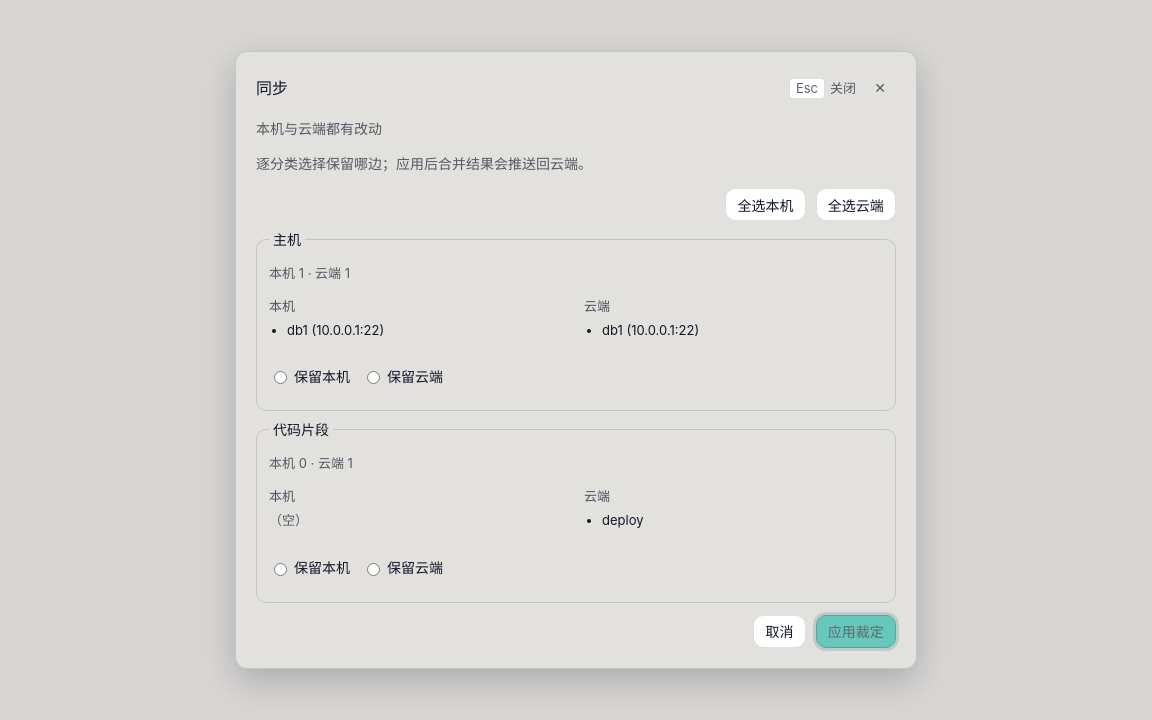
Test: SyncDialog › conflict 态：裁定（hosts=本机、snippets=云端）→ 先 pull 云端侧再 push 双侧有数据并集（全序）
Check: the element with test id "sync-conflict-panel" is shown, box x1=256 y1=118 x2=896 y2=648
Note: 红线：保留云端 → 覆盖预告（本机值）
What coordinates should you click on to do the following:
click the radio button with test id "keep-cloud-hosts"
I would click on:
 (374, 378)
Its box is x1=367 y1=371 x2=380 y2=384.
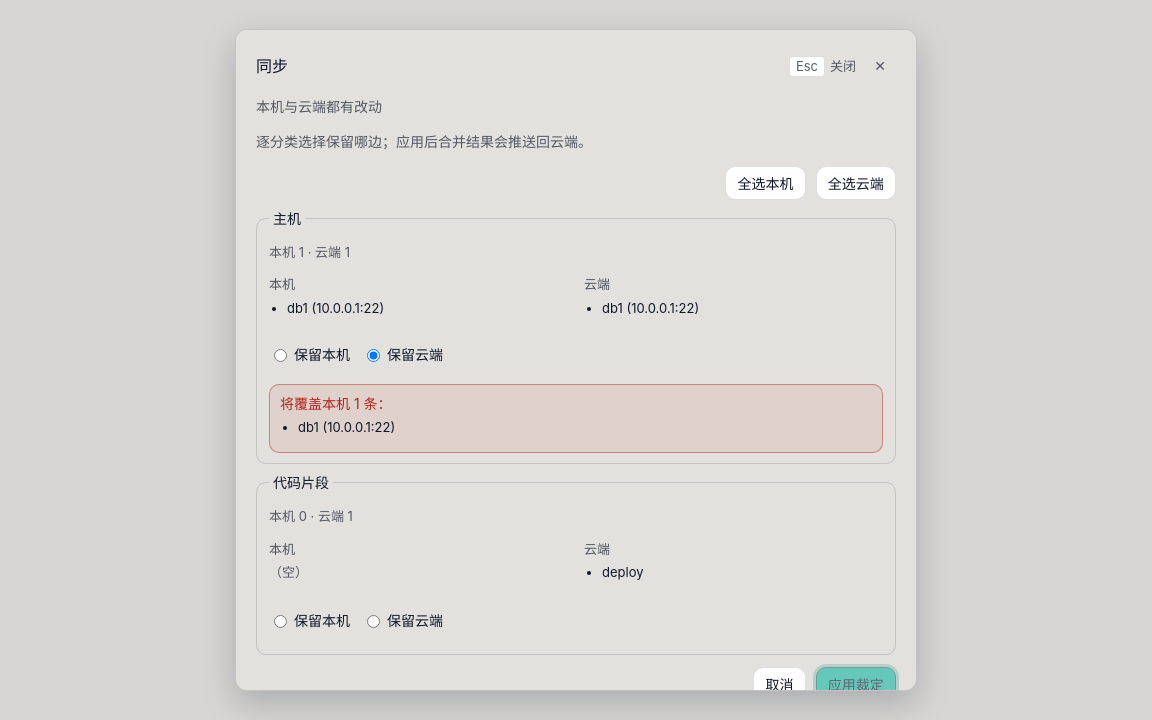
Check: the element with test id "overwrite-disclosure-hosts" is shown, box x1=269 y1=384 x2=883 y2=453
What coordinates should you click on to do the following:
click the radio button with test id "keep-local-snippets"
I would click on:
 (280, 622)
Its box is x1=274 y1=615 x2=287 y2=628.
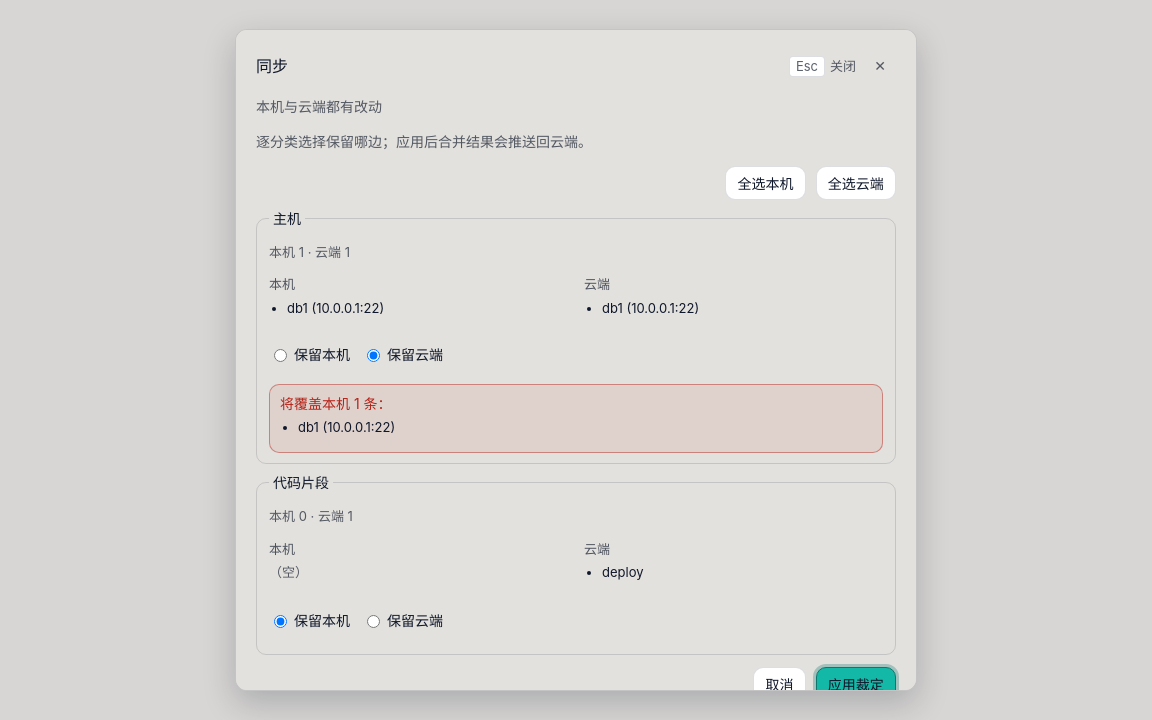
What coordinates should you click on to do the following:
click the button with test id "conflict-apply"
I would click on:
 (856, 684)
Its box is x1=816 y1=667 x2=896 y2=700.
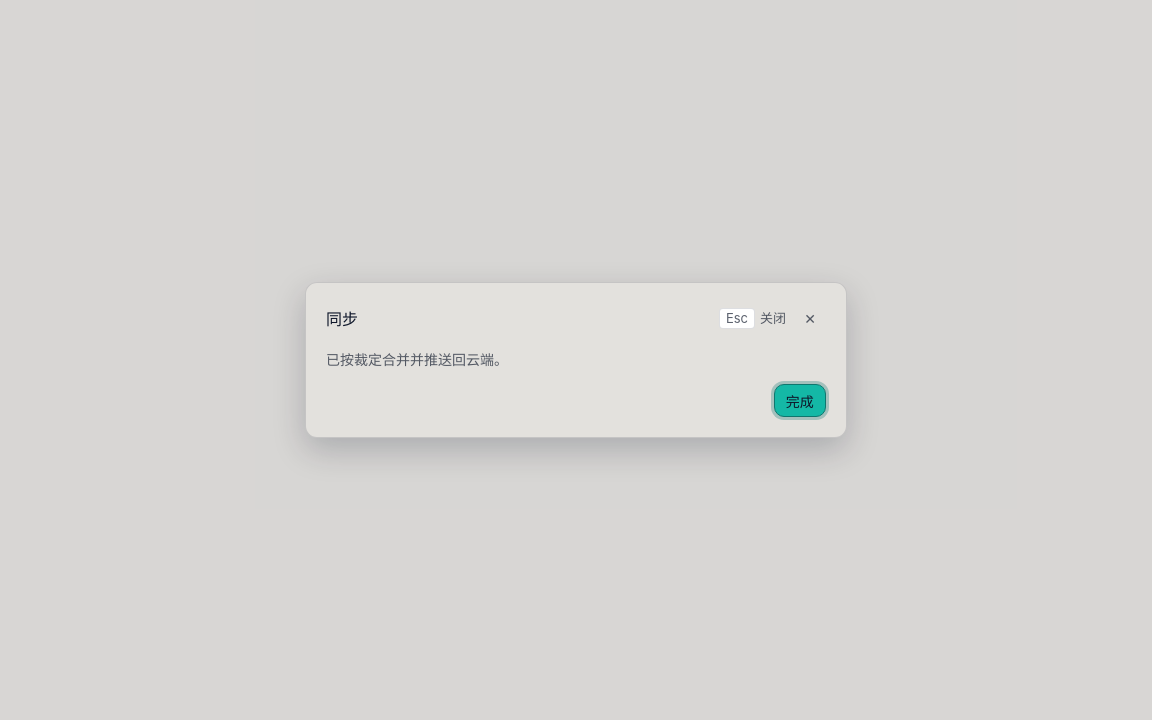
Check: the text with test id "sync-done-text" shows "合并", box x1=326 y1=351 x2=508 y2=368
